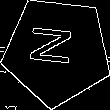N_E: (30, 28, 84, 74)
